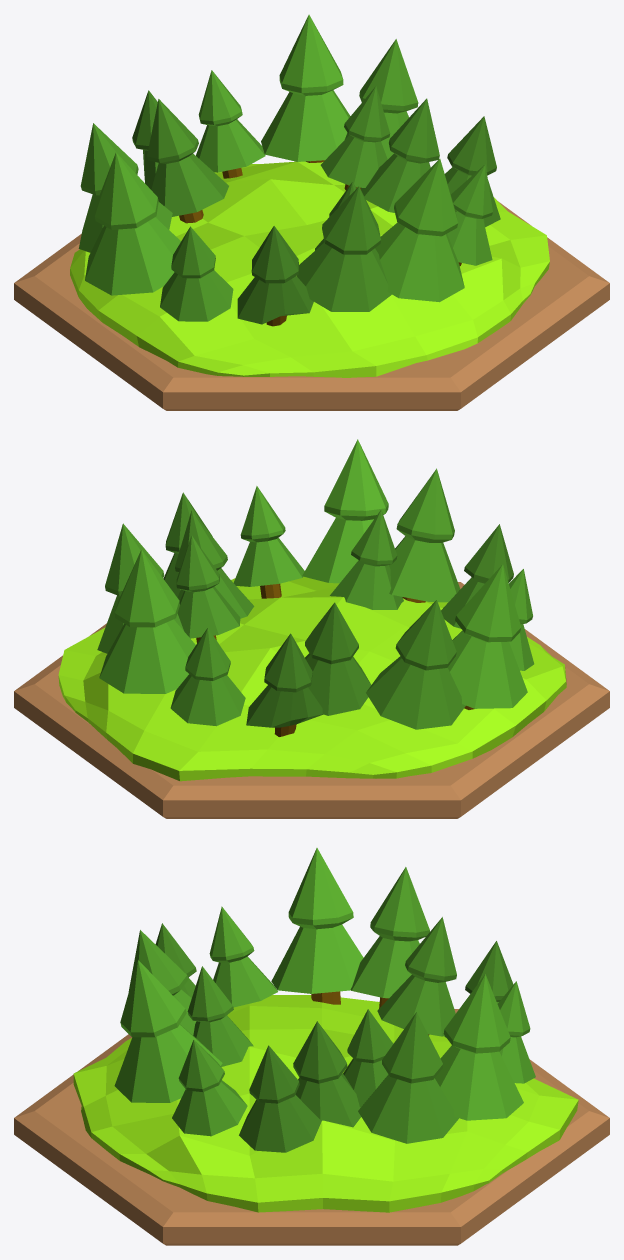
Rendered from lumber.fbx.
3 views of the same model, one above another, from view 1: azimuth 30°, elevation 25°; view 2: azimuth 150°, elevation 25°; view 3: azimuth 270°, elevation 25° (orthographic).
Parts seen in each view (by area): view 1: Tile; view 2: Tile; view 3: Tile.
Part boxes in pixels (<box>): Tile: <box>14,14,609,410</box>; Tile: <box>14,439,609,818</box>; Tile: <box>14,848,609,1245</box>.
Bounding box in the file's own units: 482 × 213 × 557.
